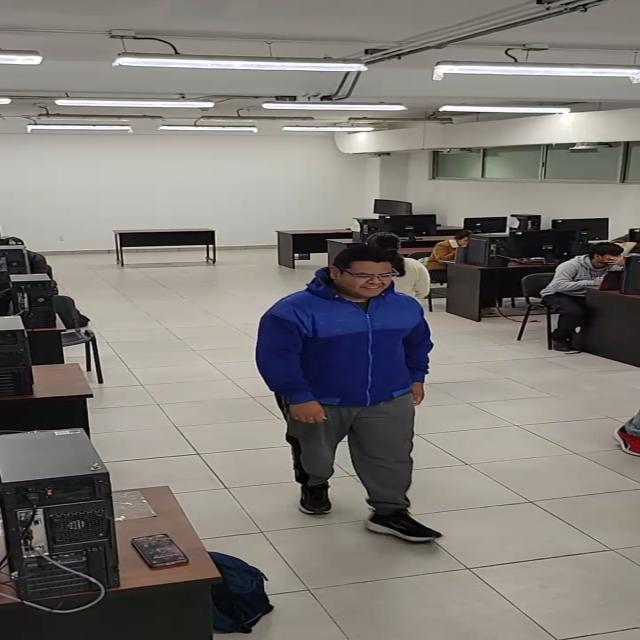Persona: (252, 245, 459, 548)
